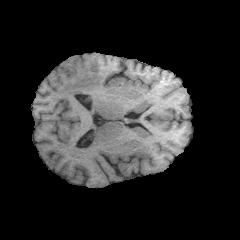glioma: (64, 73, 103, 94)
